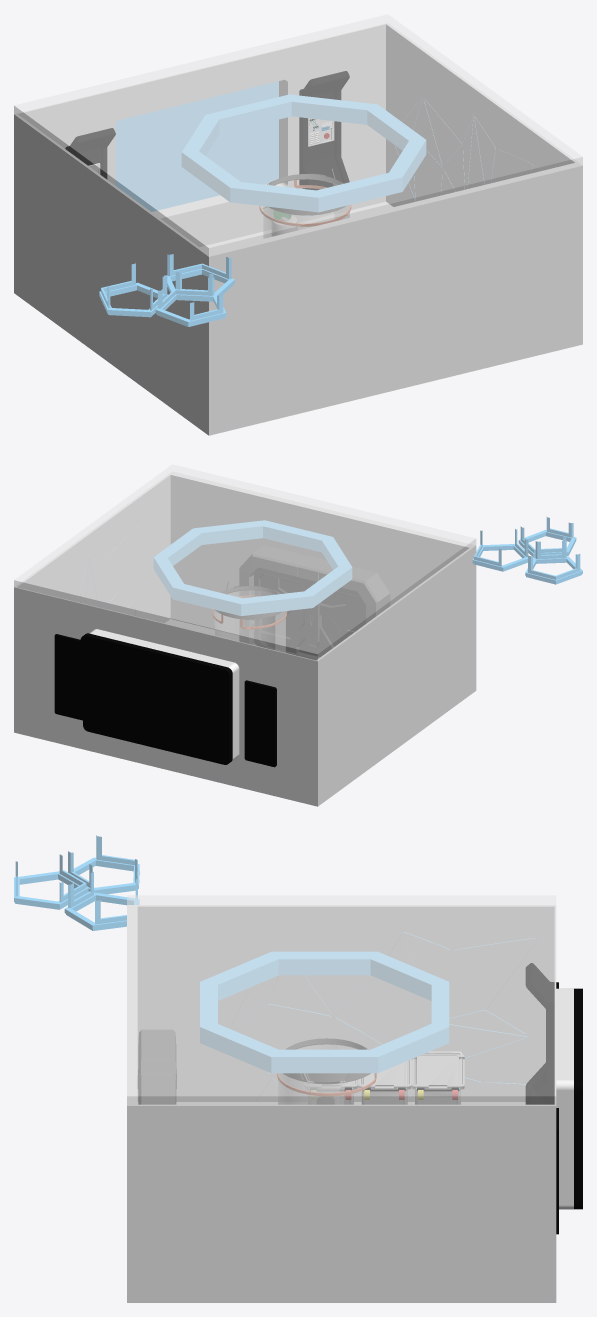
File: tutorial-room.glb
3 renders of one model, top to bottom at view 1: azimuth 30°, elevation 25°; view 2: azimuth 150°, elevation 25°; view 3: azimuth 270°, elevation 25°, orthographic. The views are drawn at different scales.
Bounding box in the file's own units: 0.035 × 0.0128 × 0.0319.
